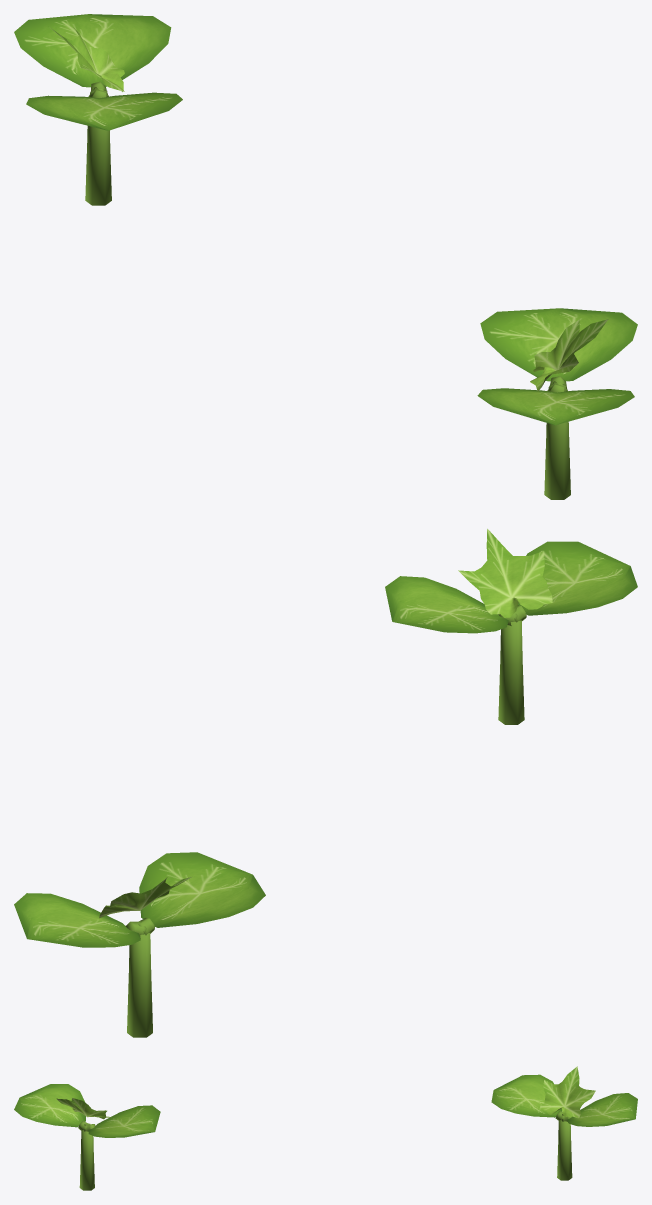
File: crop_pumpkin_0.glb
3 renders of one model, top to bottom at view 1: azimuth 30°, elevation 25°; view 2: azimuth 150°, elevation 25°; view 3: azimuth 270°, elevation 25°, orthographic. The views are drawn at different scales.
Parts seen in each view (by area): view 1: model; view 2: model; view 3: model.
Boxes of the visible parts, <box> form: model: <box>14,14,637,499</box>; model: <box>14,529,637,1037</box>; model: <box>14,1066,637,1190</box>.
Bounding box in the file's own units: 0.1404 × 0.1035 × 0.5752.
Materials: 2 (1 with a texture image).
